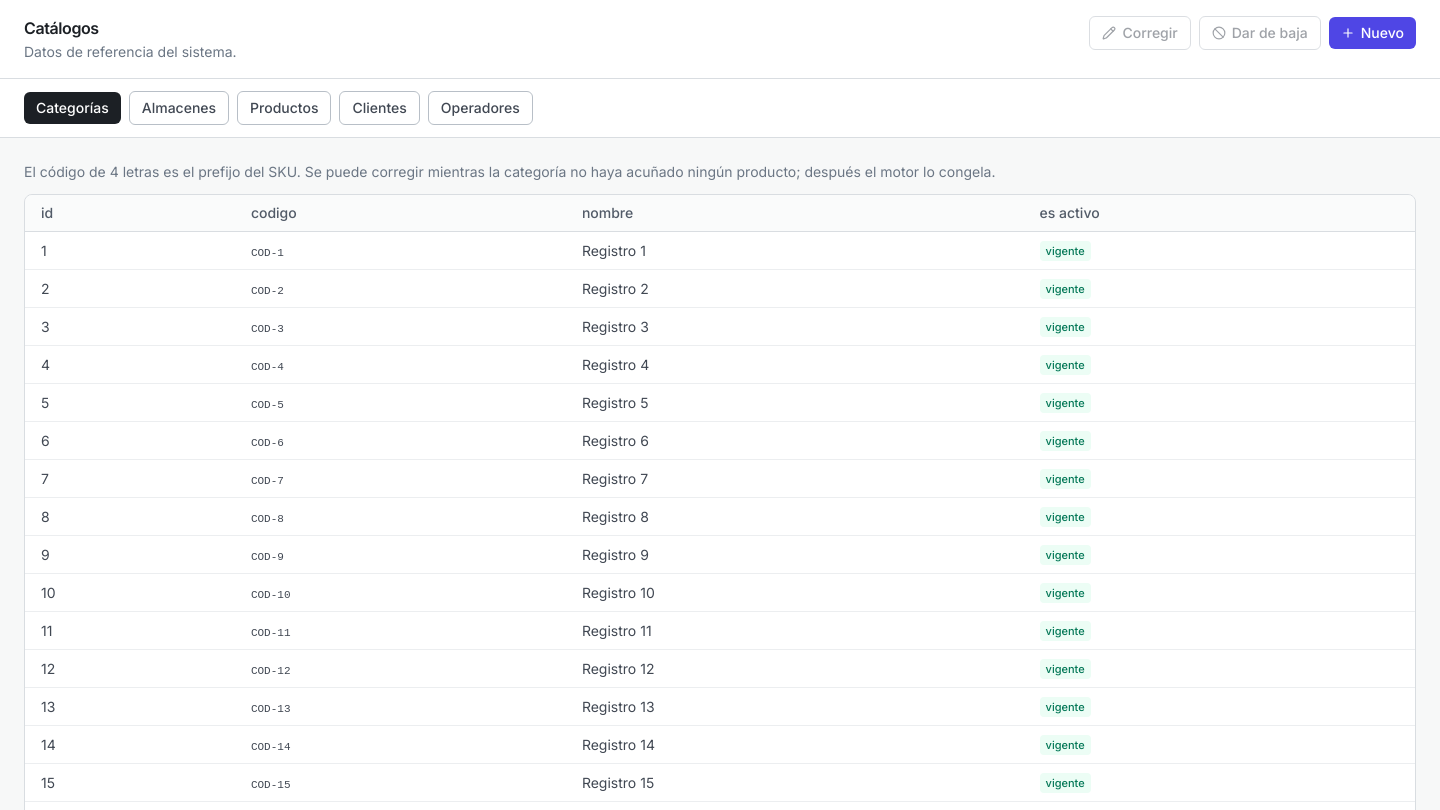
Test: Catalogos - el alta esta reservada al operador SISTEMA › ocultar el boton es cortesia: si la API rechaza, se explica el motivo
This screenshot has width=1440, height=810.
Check: the text "Registro 1" is shown, box [566,232,1024,270]
Step 1. Click the button "Nuevo" → (1372, 33), box [1329,17,1416,49]
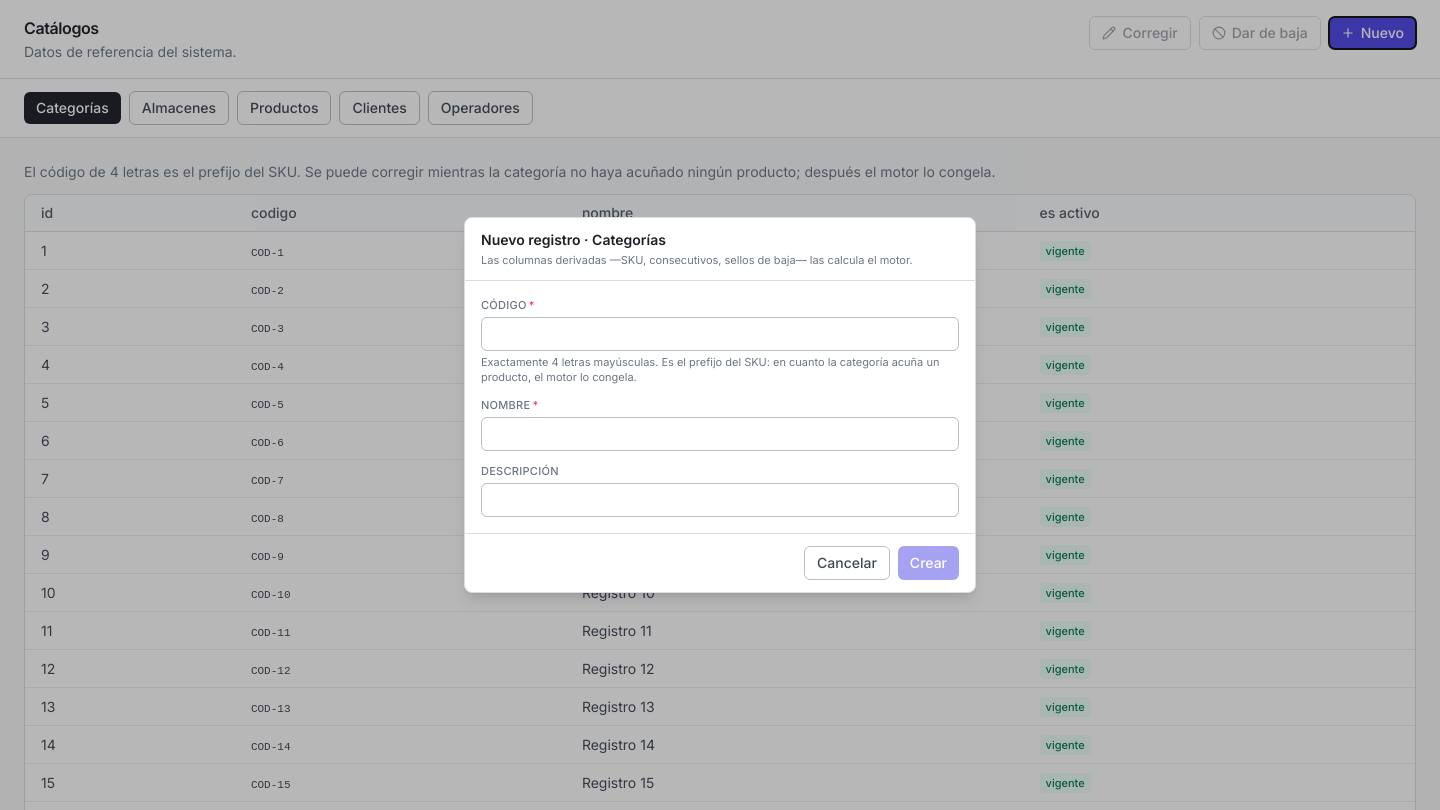
Step 2. Type "ELEC" into the field labelled "Código*" → (720, 334), box [481,317,959,351]
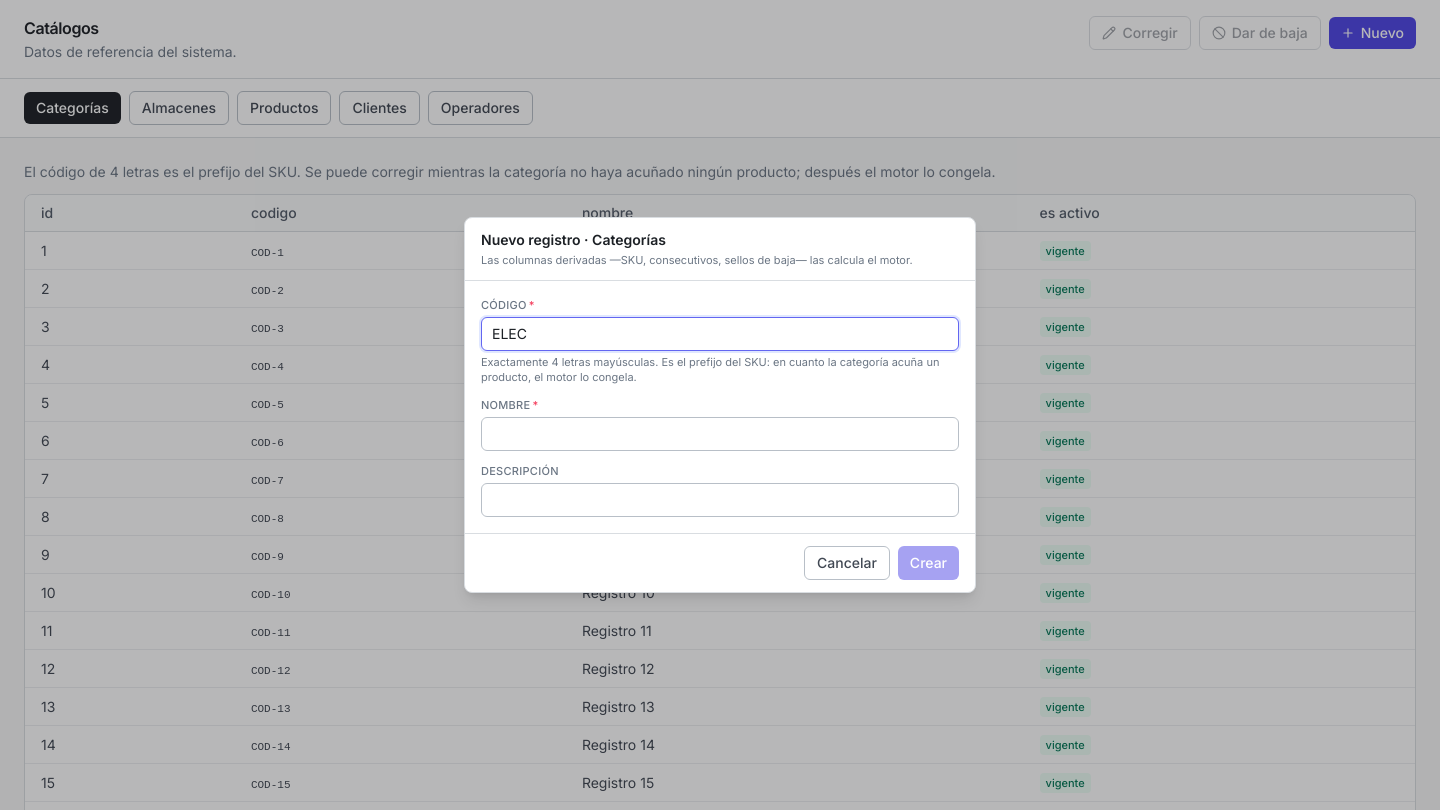
Step 3. Type "Electronica" into the field labelled "Nombre*" → (720, 434), box [481,417,959,451]
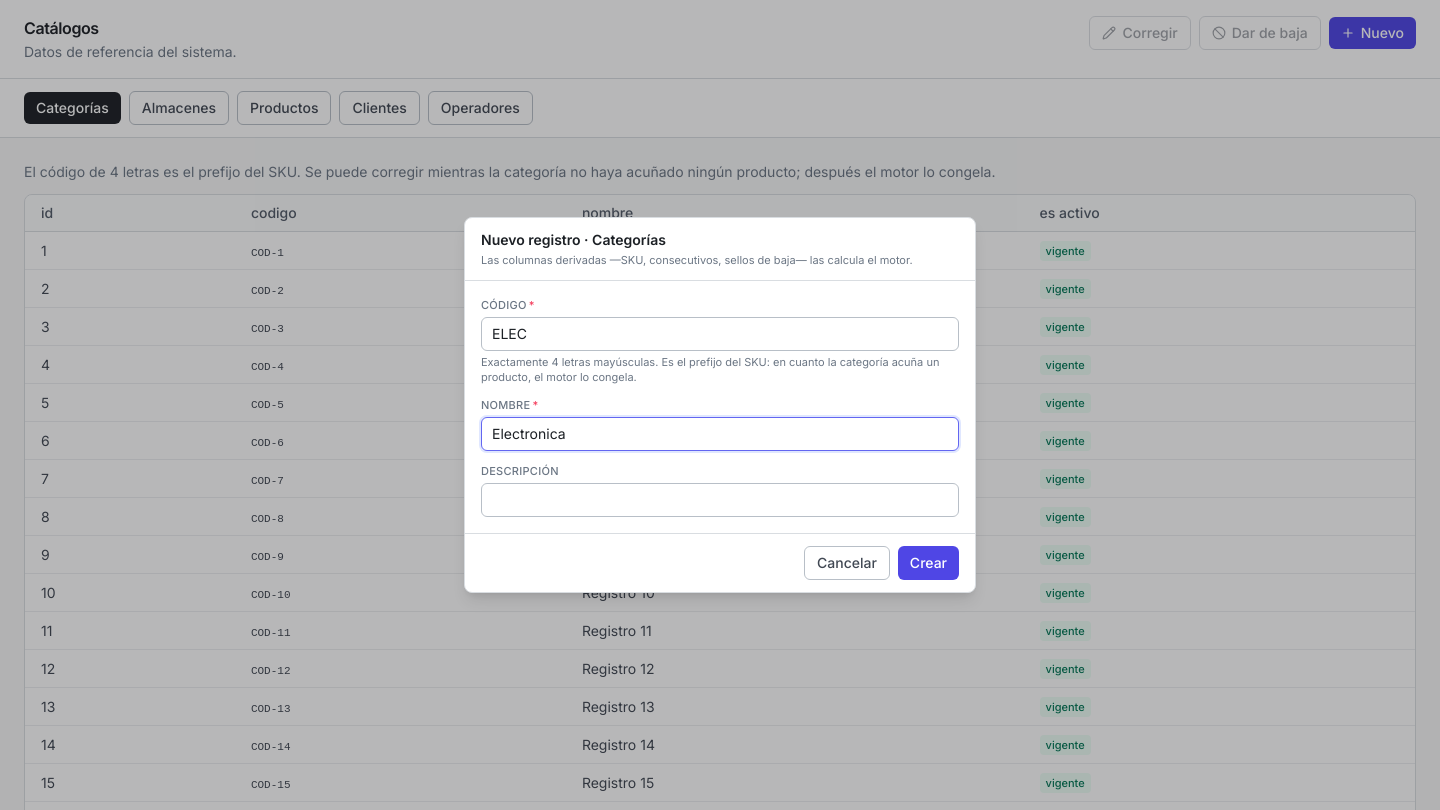
Step 4. Click the button "Crear" → (928, 563), box [898,546,959,580]
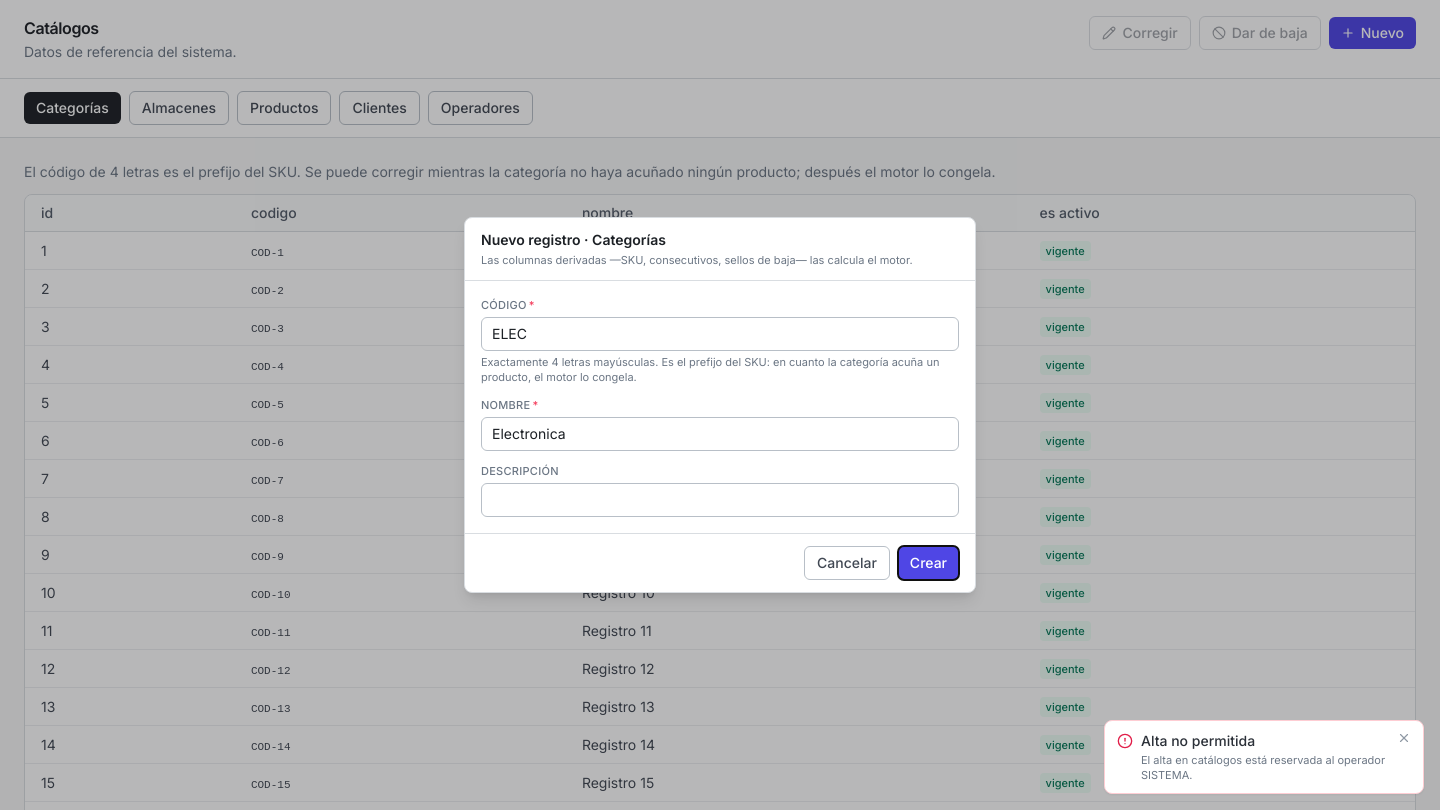
Check: the text "Alta no permitida" is shown, box [1141,732,1255,749]
